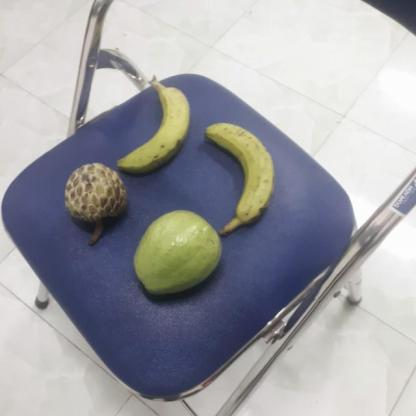annona: (64, 163, 130, 239)
banana: (199, 121, 277, 224), (118, 81, 195, 171)
guava: (134, 212, 227, 298)
